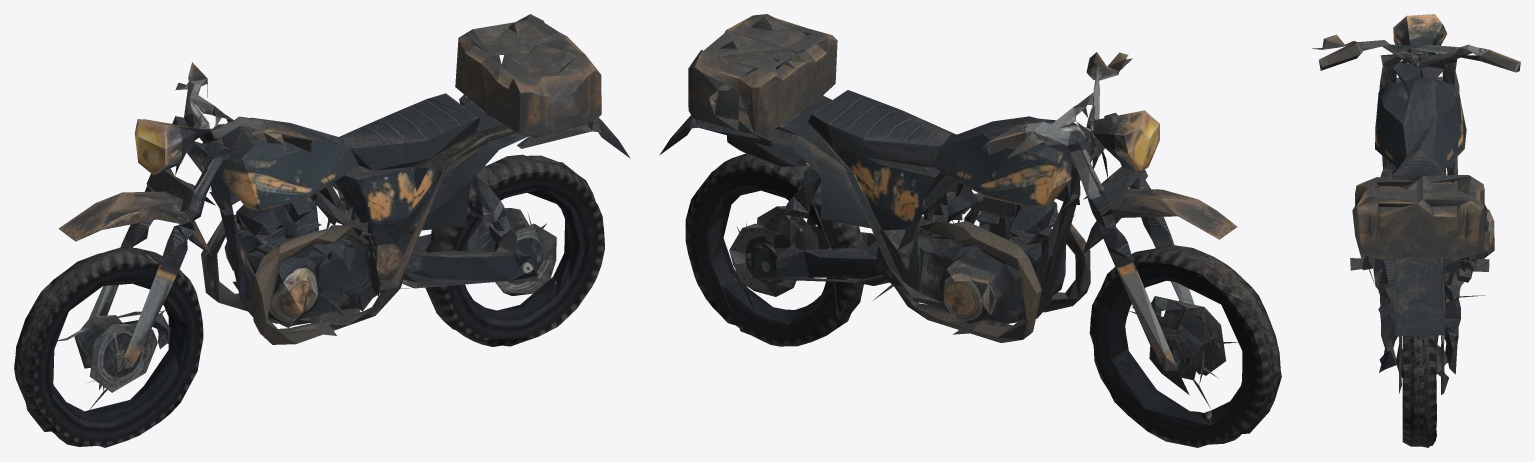
Rendered from motorbike.glb.
3 views of the same model, side by side, from view 1: azimuth 30°, elevation 25°; view 2: azimuth 150°, elevation 25°; view 3: azimuth 270°, elevation 25° (orthographic). The views are drawn at different scales.
Bounding box in the file's own units: 2.16 × 1.1 × 0.7516.
Materials: 1 (1 with a texture image).
